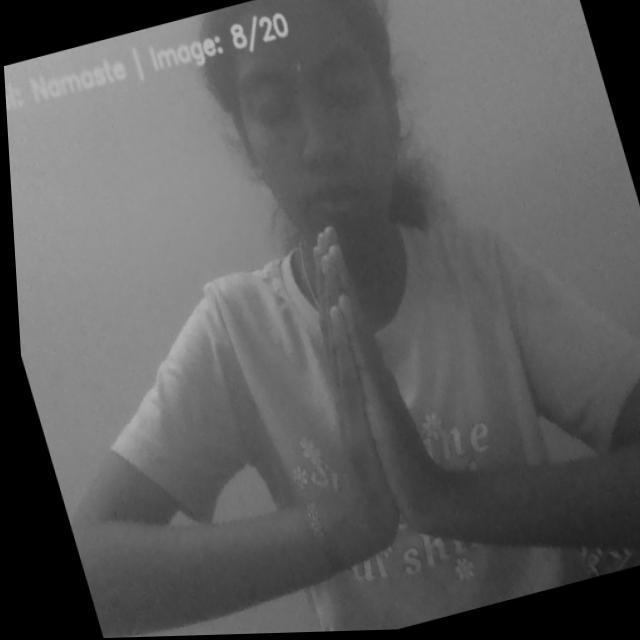Namaste: (239, 197, 488, 589)
